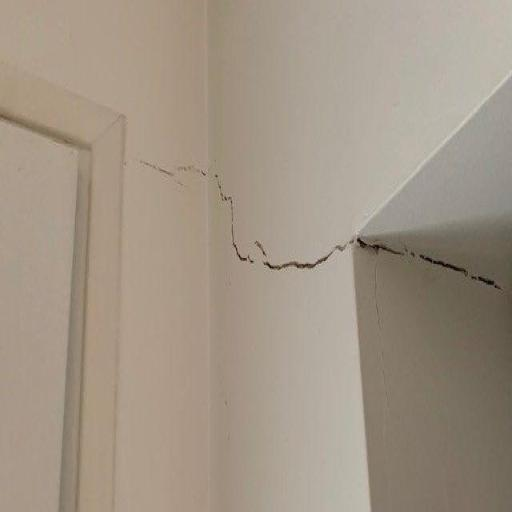spalling: (212, 167, 504, 298)
